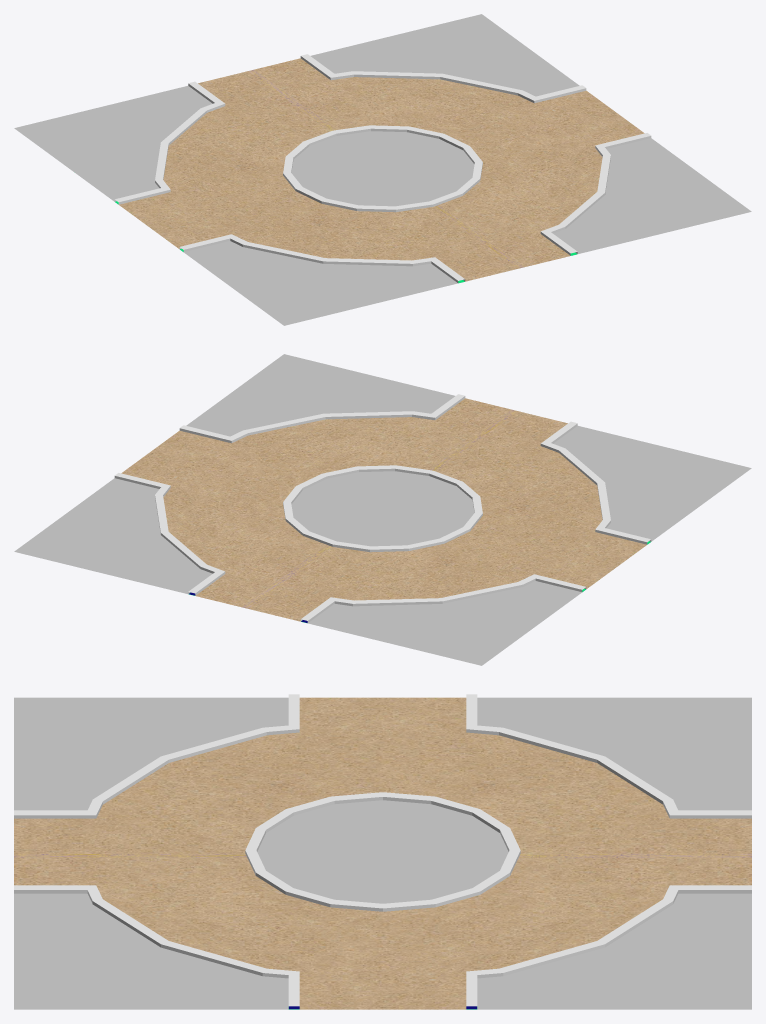
Rendered from Park-Intersection.fbx.
3 renders of one model, top to bottom at view 1: azimuth 30°, elevation 25°; view 2: azimuth 150°, elevation 25°; view 3: azimuth 270°, elevation 25°, orthographic. The views are drawn at different scales.
Visible parts, largest first — view 1: _T_Park_IntercektionBG; view 2: _T_Park_IntercektionBG; view 3: _T_Park_IntercektionBG.
Boxes of the visible parts, <box> form: _T_Park_IntercektionBG: <box>14,14,751,325</box>; _T_Park_IntercektionBG: <box>14,354,751,665</box>; _T_Park_IntercektionBG: <box>14,694,751,1009</box>.
Bounding box in the file's own units: 2000 × 10 × 2000.
